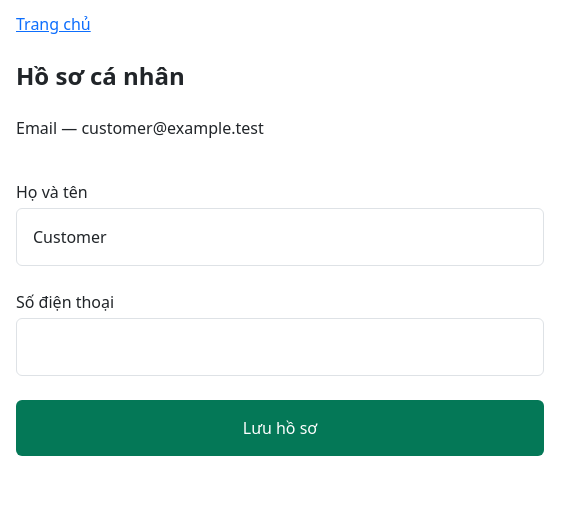
it: personal profile › loads the profile and saves only name and phone
The width and height of the screenshot is (561, 513).
Replace the text in the field labelled "Họ và tên" with "Updated" at (280, 237), box [16,208,544,266]
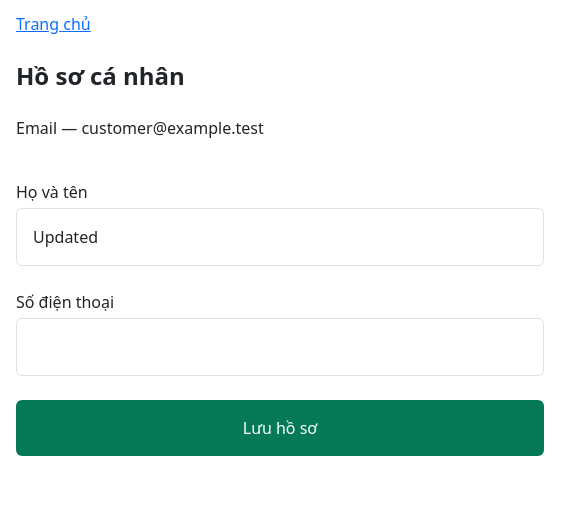
Type "+84912345678" into the field labelled "Số điện thoại" at (280, 347), box [16,318,544,376]
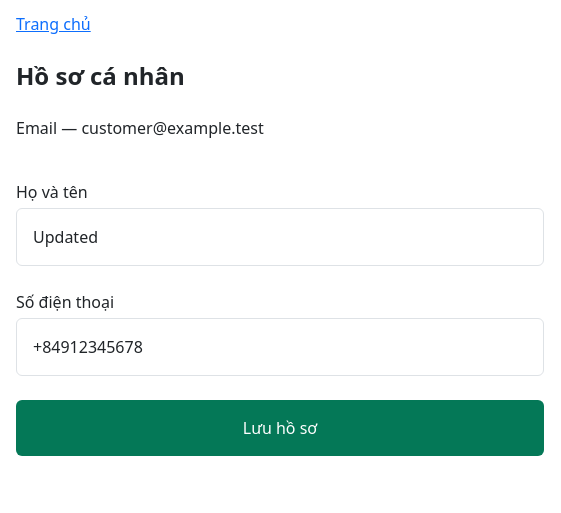
Click the button "Lưu hồ sơ" at (280, 428), box [16,400,544,456]
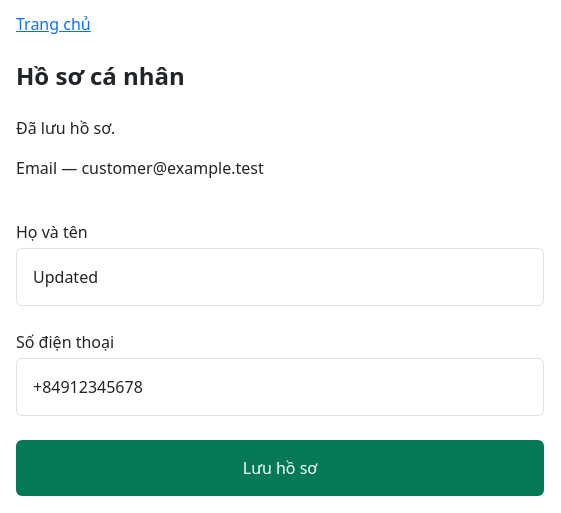
Expected: the text "Đã lưu hồ sơ." is shown, [16,117,115,139]
